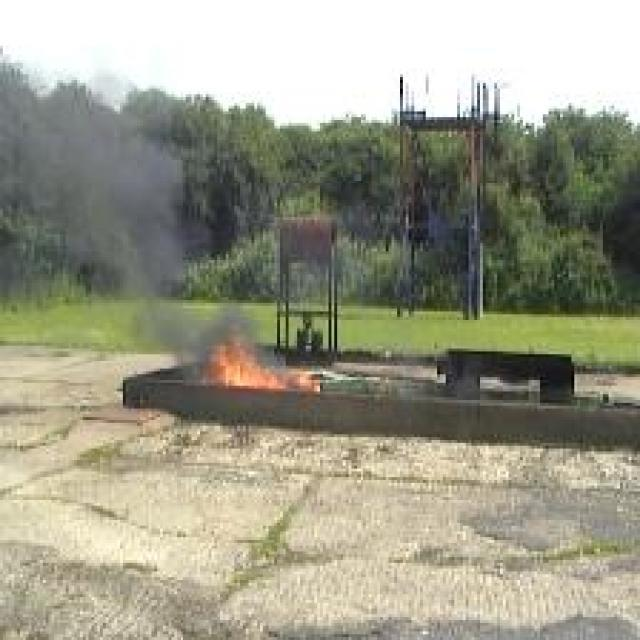Fire: (214, 332, 323, 392)
